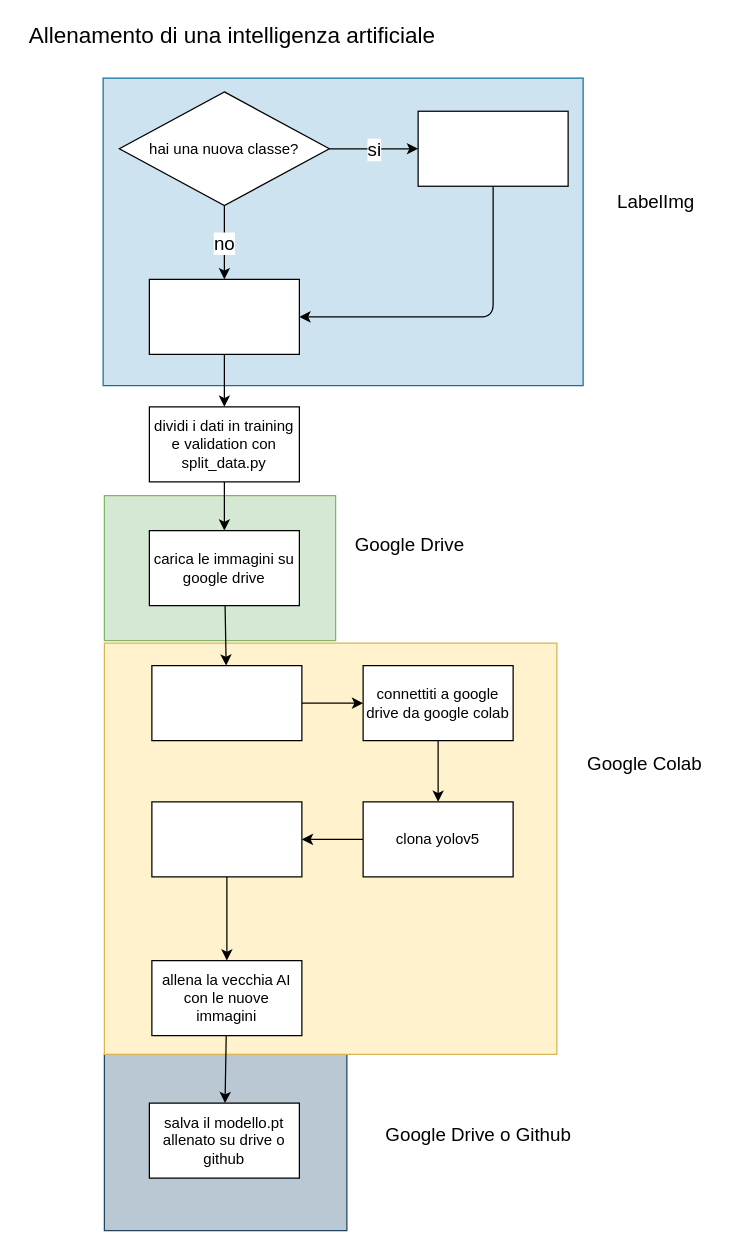
Some shapes in this 729 by 1253 pixel diagram are drawn without their labels. The box of each missing label's shape, as (x1, y1, x2, y2) in pixels:
aggiungi data/dataset.yaml personalizzato: (151, 801, 302, 877)
aggiungi la nuova classe al file classes.txt: (417, 110, 568, 186)
annota le nuove immagini con labelimg.py: (148, 278, 299, 354)
apri il file notebook dentro google colab: (151, 664, 302, 741)
